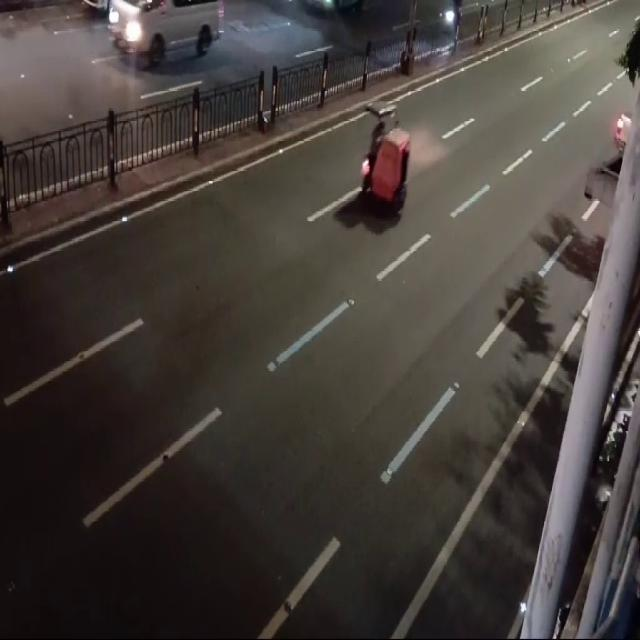car: (103, 0, 230, 77)
motorcycle: (348, 82, 424, 221)
